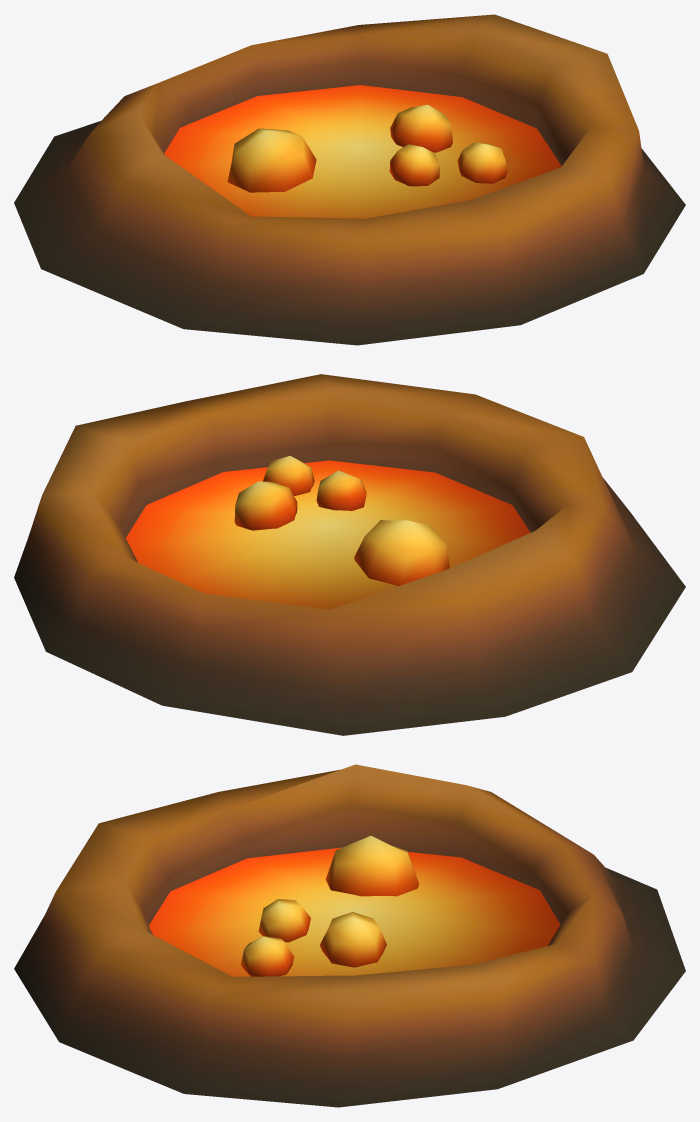
Rendered from m_LavaPool01_B.fbx.
3 views of the same model, one above another, from view 1: azimuth 30°, elevation 25°; view 2: azimuth 150°, elevation 25°; view 3: azimuth 270°, elevation 25° (orthographic). The views are drawn at different scales.
Parts seen in each view (by area): view 1: m_LavaPool01_B; view 2: m_LavaPool01_B; view 3: m_LavaPool01_B.
Boxes of the visible parts, box(x1,y1,x2,y2) form: m_LavaPool01_B: box(14, 14, 685, 345); m_LavaPool01_B: box(14, 374, 685, 735); m_LavaPool01_B: box(14, 764, 685, 1107).
Size of the model in its own units: 491 by 82.26 by 478.
